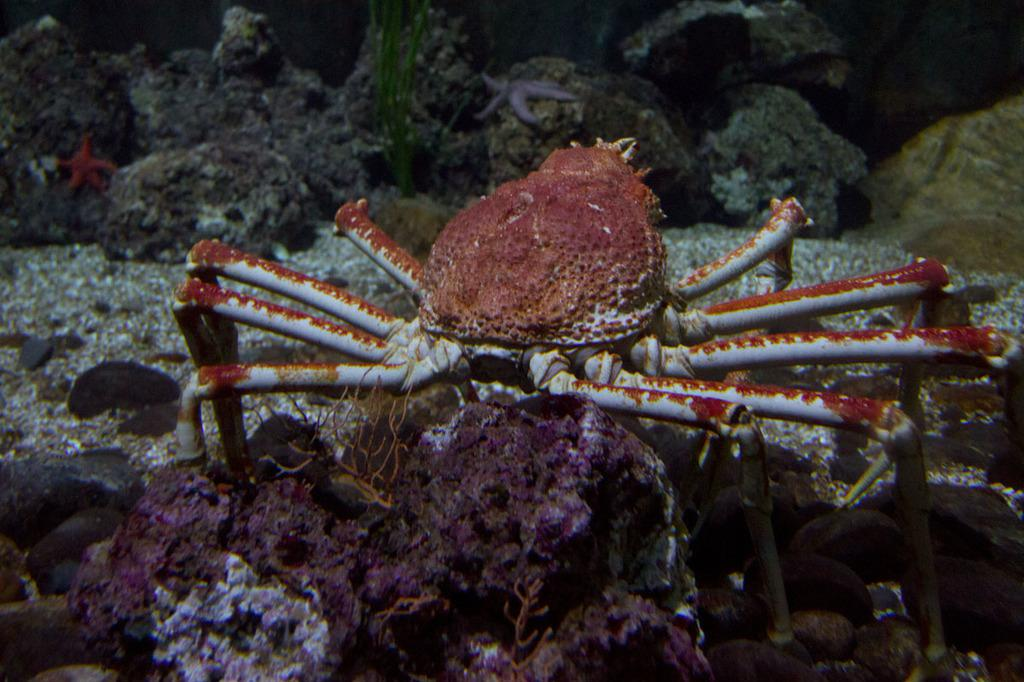Crab: (174, 137, 1023, 681)
